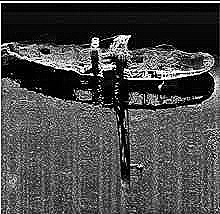ship: (2, 34, 217, 84)
